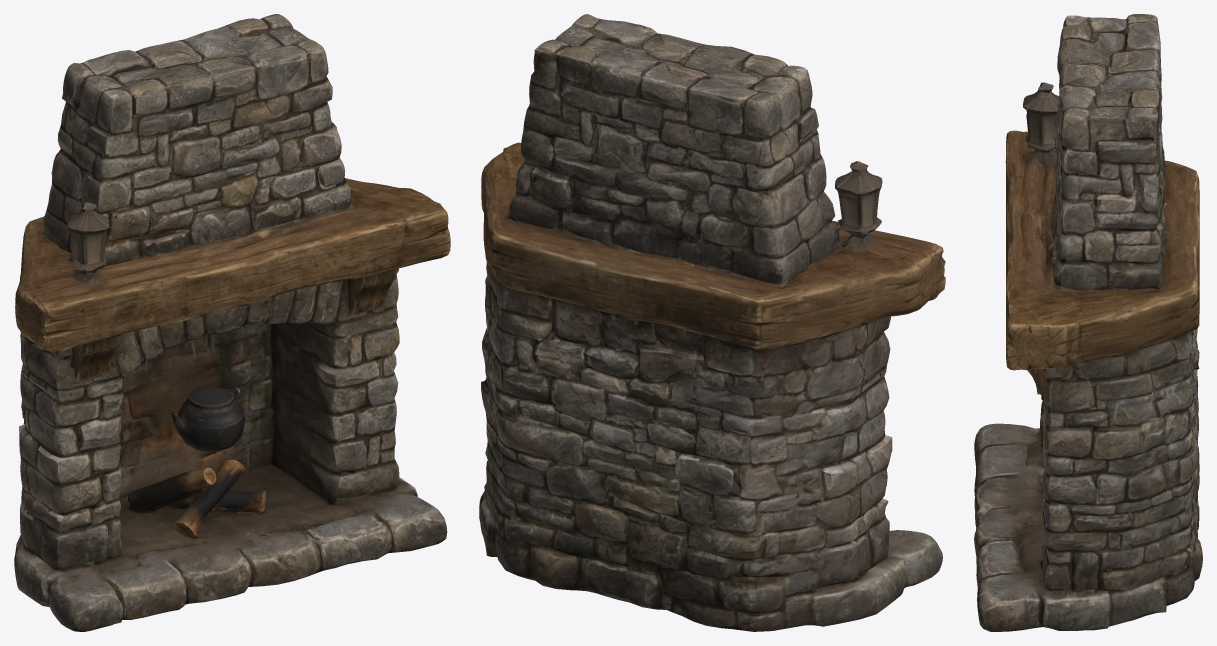
File: ranger_hearth.glb
The picture shows the model from 3 angles, left to right: view 1: azimuth 30°, elevation 25°; view 2: azimuth 150°, elevation 25°; view 3: azimuth 270°, elevation 25°; orthographic projection. The views are drawn at different scales.
Parts seen in each view (by area): view 1: Mesh_0; view 2: Mesh_0; view 3: Mesh_0.
Boxes of the visible parts, x1,y1,x2,y2 form: Mesh_0: [14, 14, 450, 631]; Mesh_0: [479, 14, 945, 631]; Mesh_0: [974, 14, 1202, 631].
Bounding box in the file's own units: 1.67 × 1.9 × 0.8224.
1 material, 1 textured.
